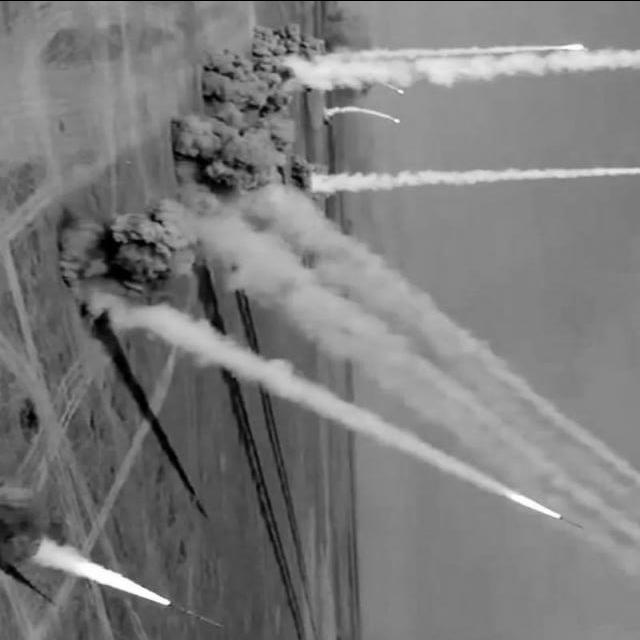Missile: (158, 597, 234, 631), (554, 508, 589, 532)
